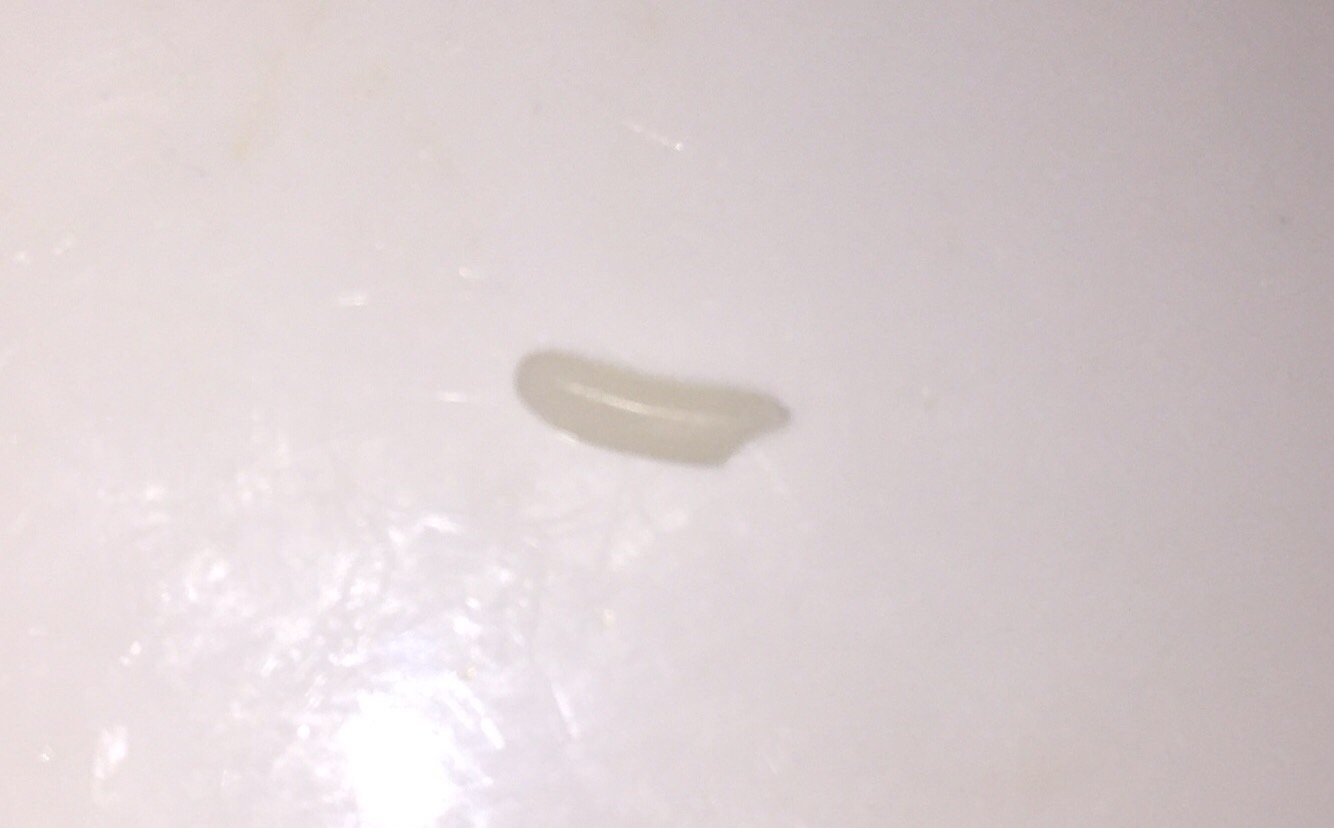Gao Ngoc Troi: (497, 322, 798, 484)
